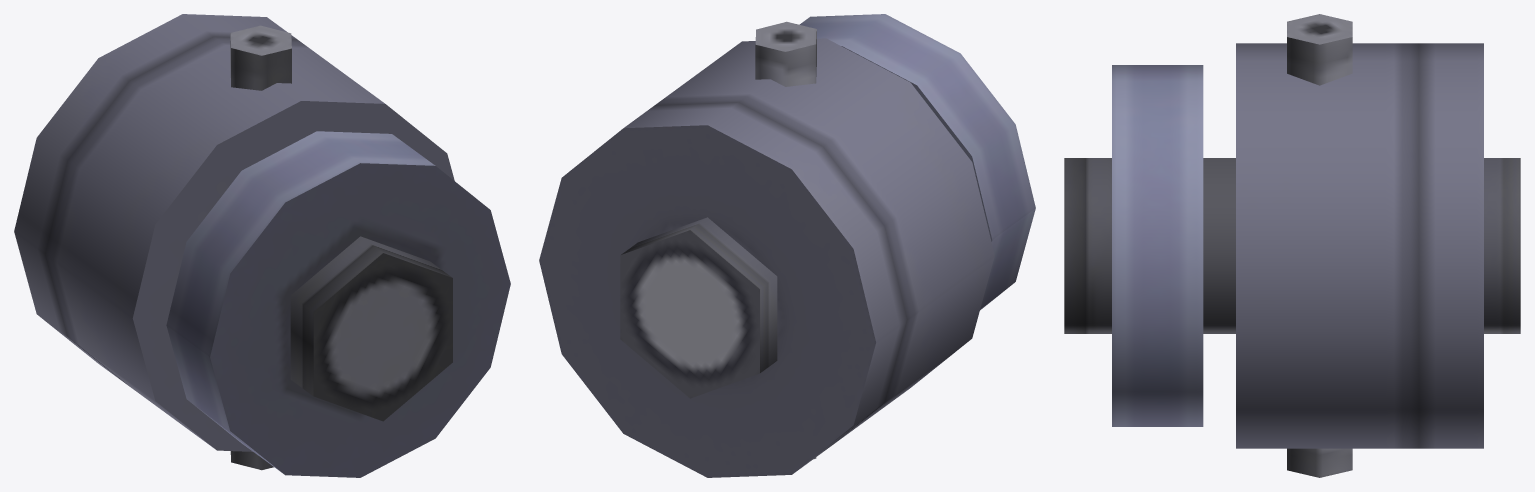
Rendered from obj_interactive_suspensionoffroad_on.fbx.
The picture shows the model from 3 angles, left to right: view 1: azimuth 30°, elevation 25°; view 2: azimuth 150°, elevation 25°; view 3: azimuth 270°, elevation 25°; orthographic projection. The views are drawn at different scales.
Visible parts, largest first — view 1: obj_interactive_suspensionoffroad_on_lod0; view 2: obj_interactive_suspensionoffroad_on_lod0; view 3: obj_interactive_suspensionoffroad_on_lod0.
Boxes of the visible parts, x1,y1,x2,y2 form: obj_interactive_suspensionoffroad_on_lod0: (14,14,510,477); obj_interactive_suspensionoffroad_on_lod0: (539,14,1035,477); obj_interactive_suspensionoffroad_on_lod0: (1064,14,1520,477).
Bounding box in the file's own units: 1.09 × 1.29 × 1.23.
1 material, 1 textured.
